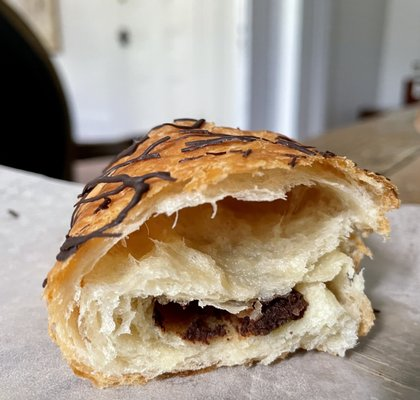soup: (38, 118, 396, 390)
